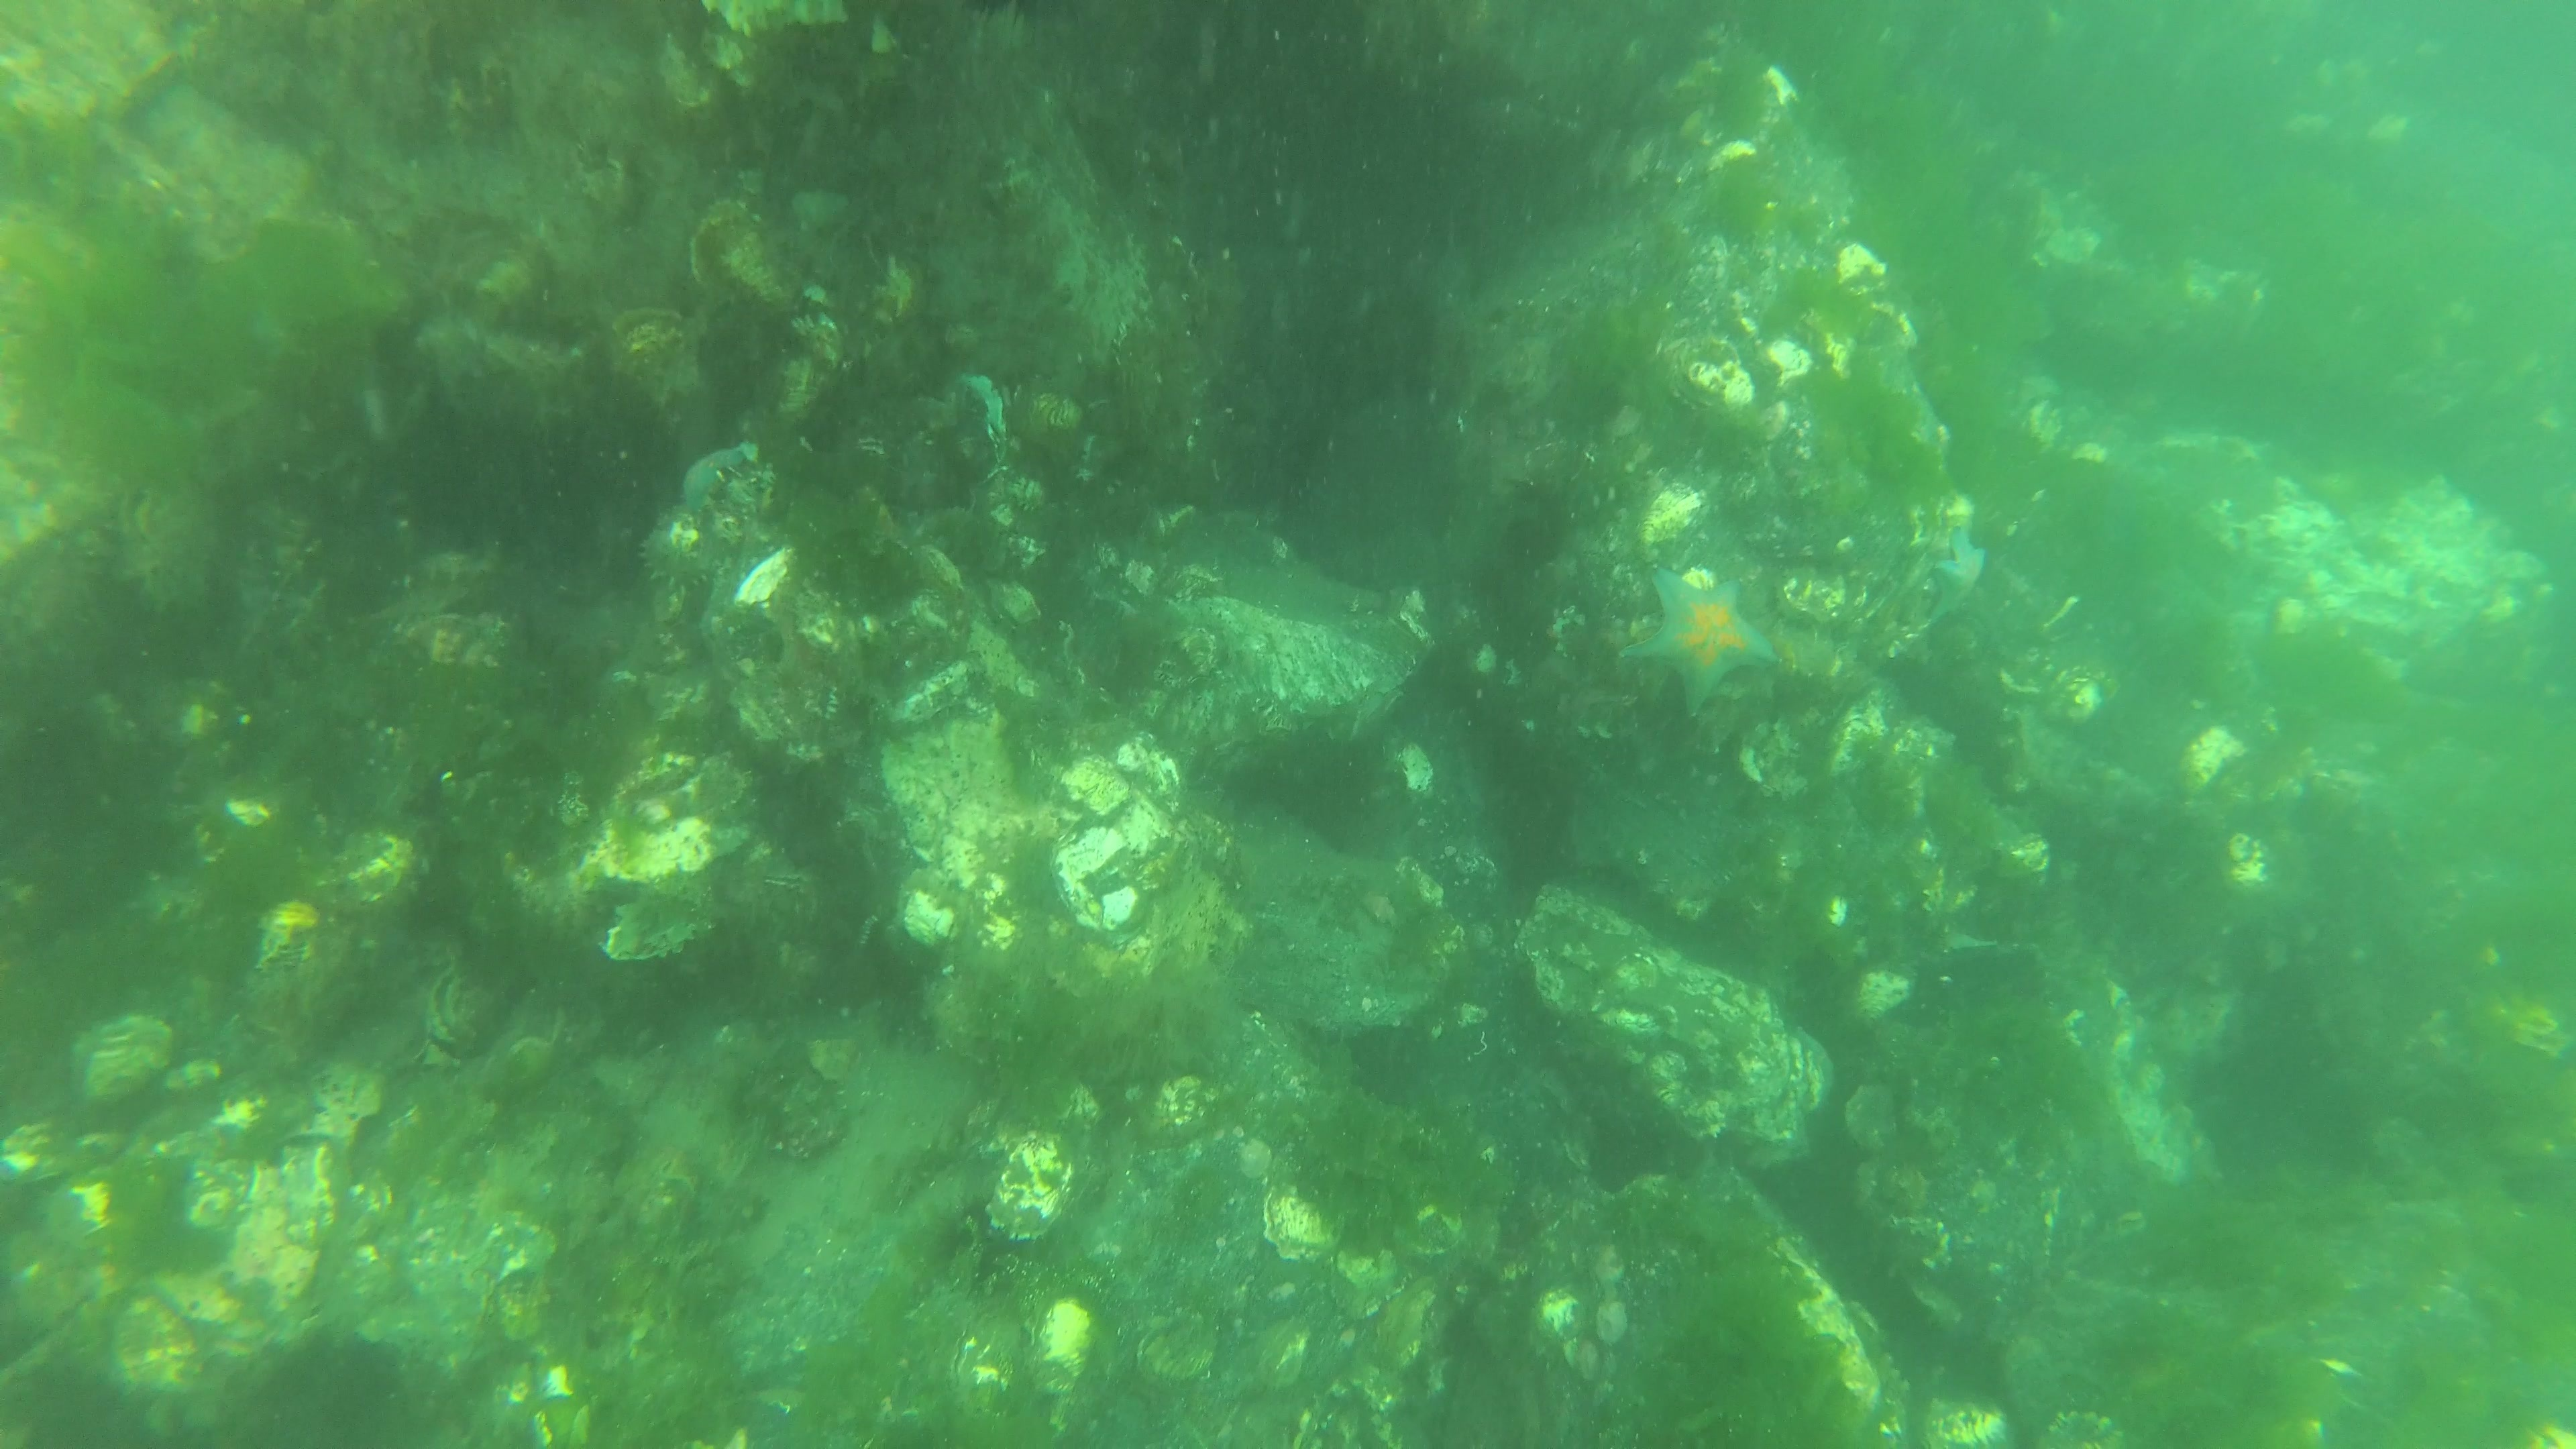holothurian: (639, 525, 725, 589), (2035, 1407, 2118, 1449)
starfish: (1626, 564, 1782, 717), (679, 444, 755, 517), (1934, 525, 1987, 619), (961, 370, 1010, 451)
